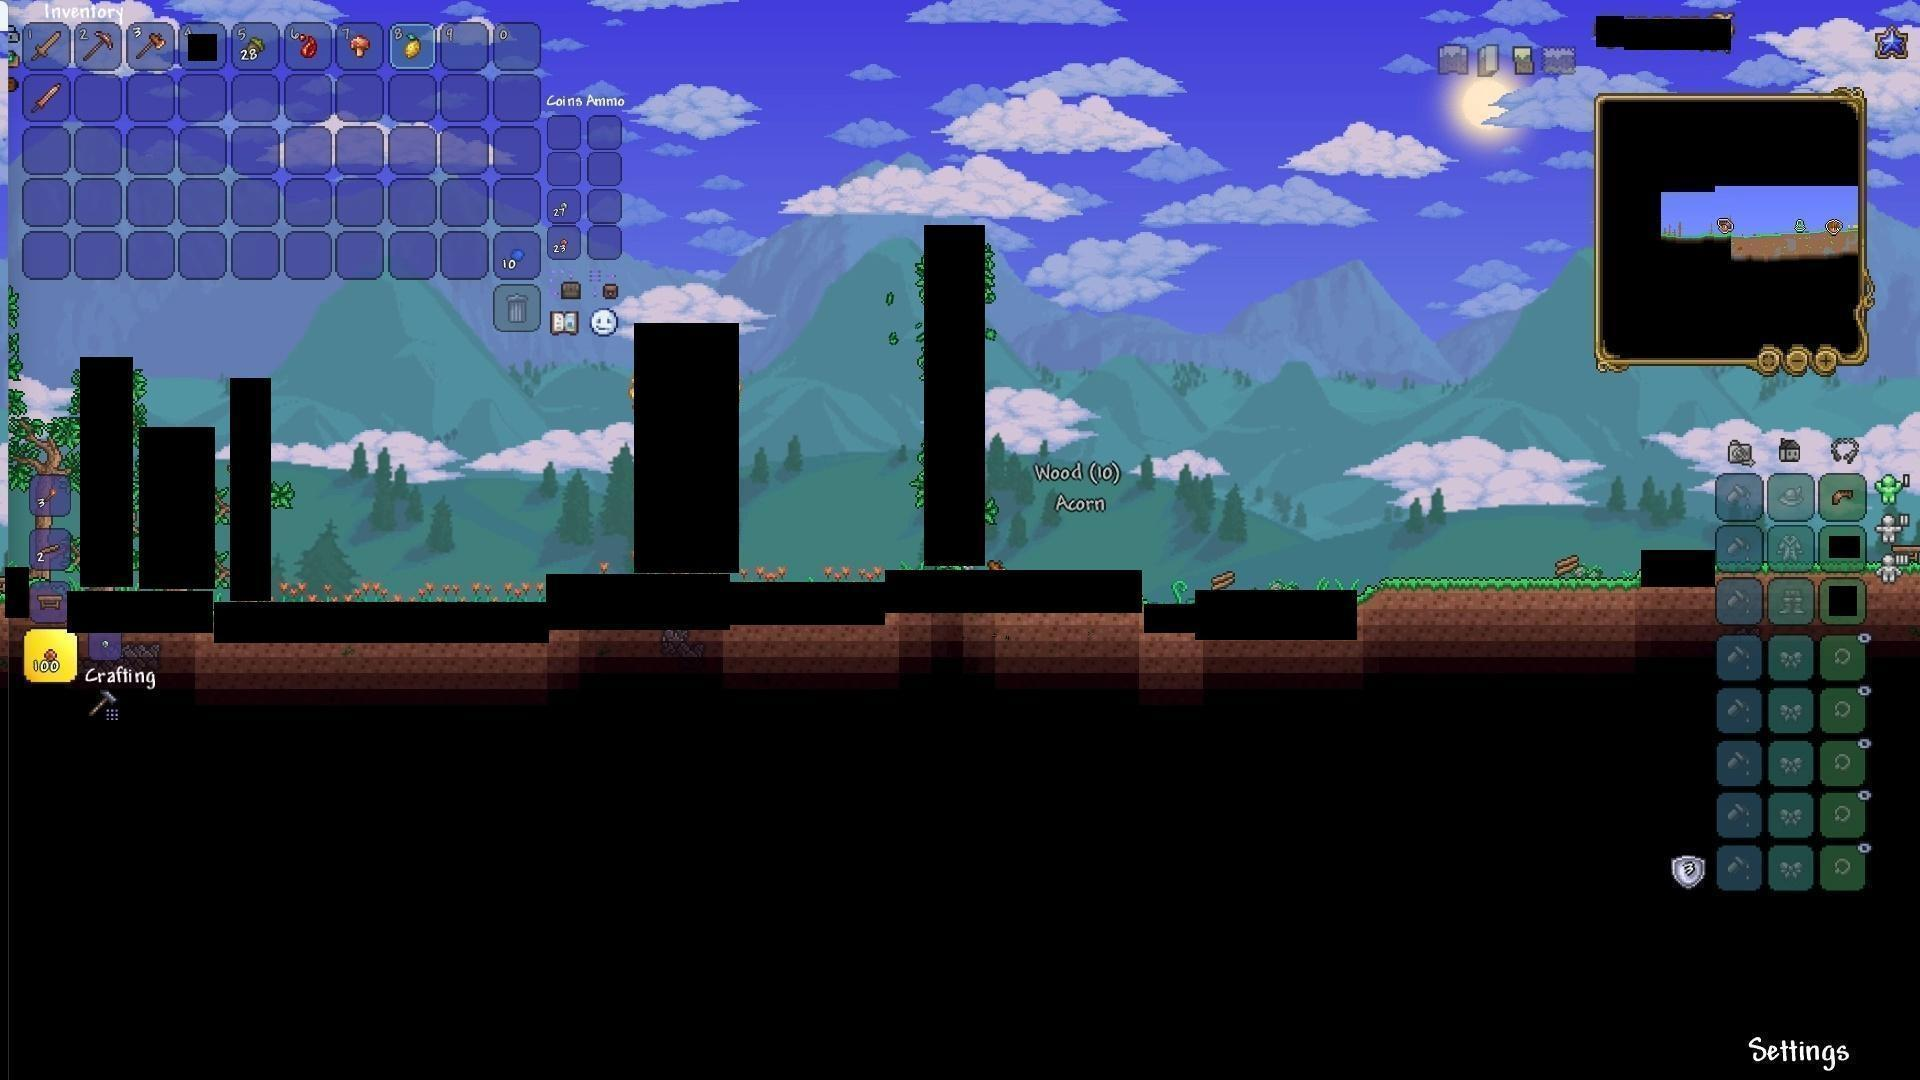dirt: (1362, 576, 1635, 613)
helmet: (1828, 483, 1858, 509)
wood: (1211, 568, 1238, 595), (1552, 553, 1580, 579)
workbench: (32, 593, 63, 616), (1890, 542, 1920, 564)
